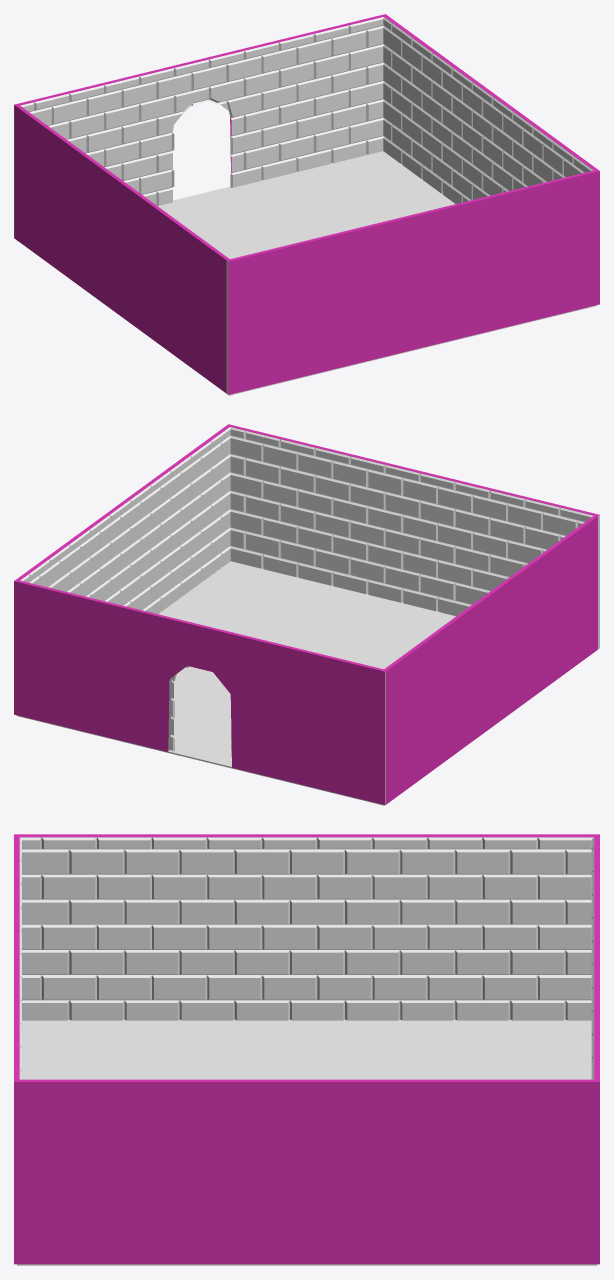
The picture shows the model from 3 angles, top to bottom: view 1: azimuth 30°, elevation 25°; view 2: azimuth 150°, elevation 25°; view 3: azimuth 270°, elevation 25°; orthographic projection. The views are drawn at different scales.
Parts seen in each view (by area): view 1: Cube.006; view 2: Cube.006; view 3: Cube.006.
Part boxes in pixels (x1=…): Cube.006: x1=14, y1=14, x2=599, y2=395; Cube.006: x1=14, y1=424, x2=599, y2=805; Cube.006: x1=14, y1=834, x2=599, y2=1265.
Bounding box in the file's own units: 2020 × 2020 × 703.
